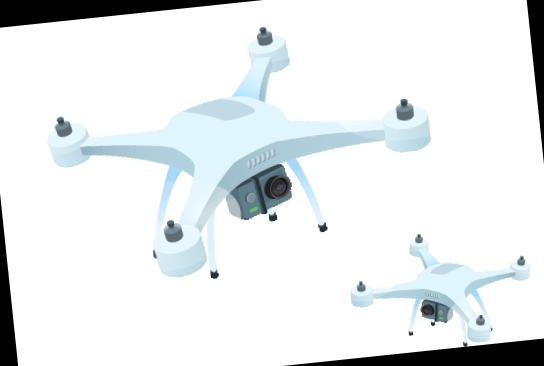drone: (0, 0, 484, 302), (305, 192, 544, 359)
